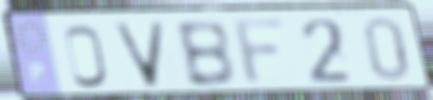0: (360, 14, 414, 85), (62, 23, 110, 90)
2: (299, 16, 354, 86)
B: (171, 17, 239, 90)
F: (230, 15, 291, 90)
V: (109, 20, 170, 90)
